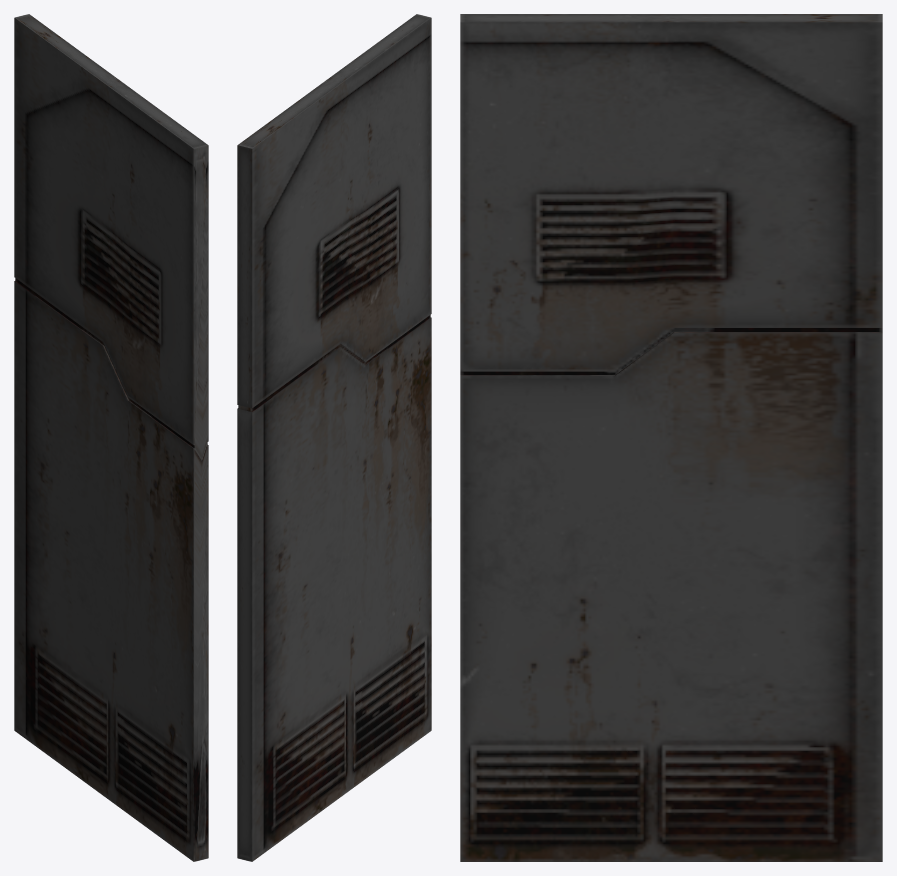
The model's file is Right.fbx.
The picture shows the model from 3 angles, left to right: view 1: azimuth 30°, elevation 25°; view 2: azimuth 150°, elevation 25°; view 3: azimuth 270°, elevation 25°; orthographic projection. The views are drawn at different scales.
Parts seen in each view (by area): view 1: 12.003; view 2: 12.003; view 3: 12.003.
Boxes of the visible parts, left/top/right/bottom form: 12.003: left=14, top=14, right=208, bottom=861; 12.003: left=237, top=14, right=431, bottom=861; 12.003: left=460, top=14, right=882, bottom=861.
Bounding box in the file's own units: 3.92 × 181 × 82.35.
